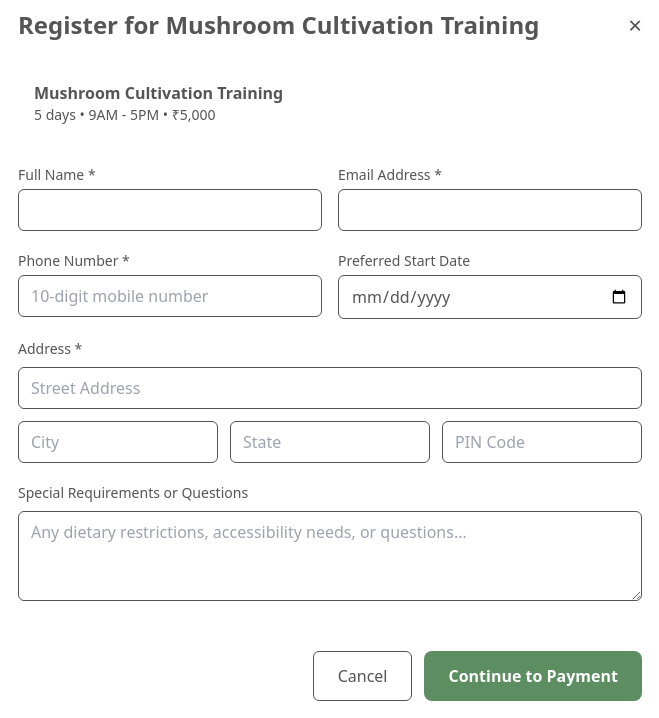
Scenario: RegistrationModal Validation › clears errors when user types in errored field
This screenshot has width=659, height=718.
Note: Submit to trigger errors
Click the button "Continue to Payment". click: (533, 676)
box: top-left (424, 651), bottom-right (642, 701)
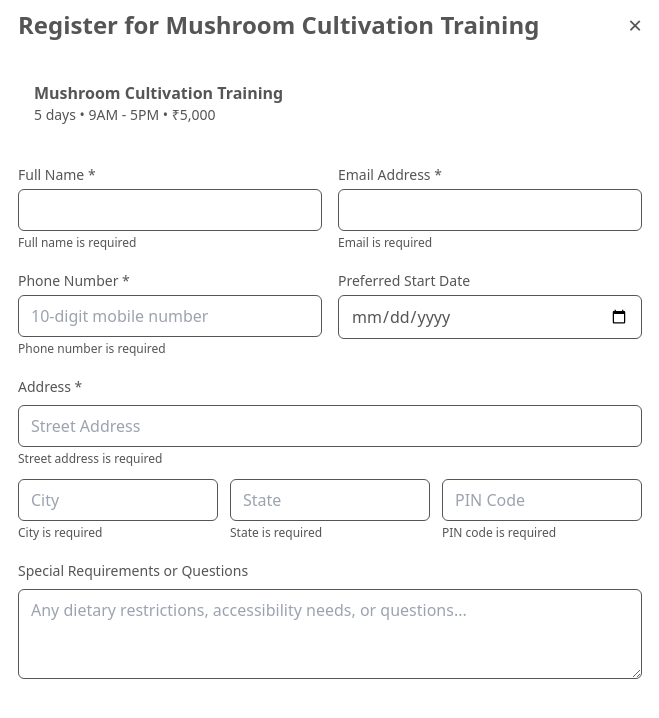
Now the text "Full name is required" is shown, box top-left (18, 234), bottom-right (136, 251)
Note: Type in the name field
Type "John Doe" into the field below "Full Name *". click: (170, 210)
box: top-left (18, 189), bottom-right (322, 231)
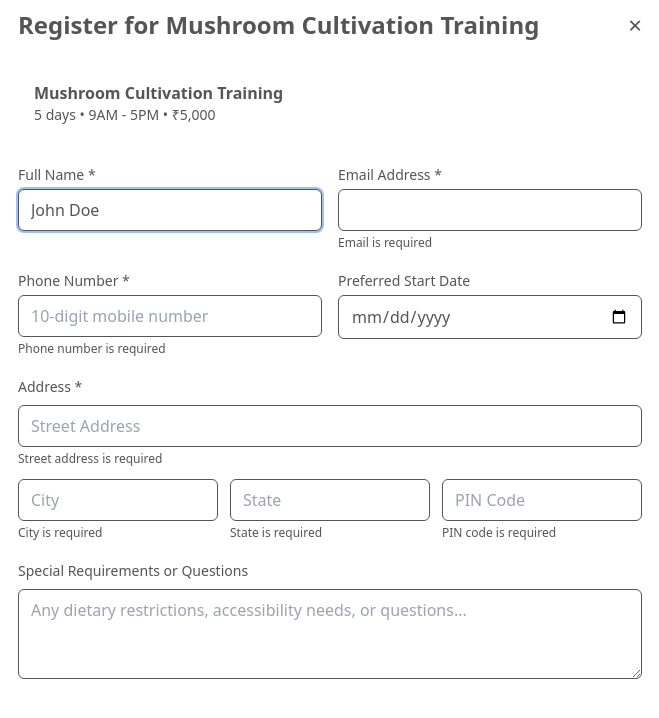
Now the text "Full name is required" is gone
